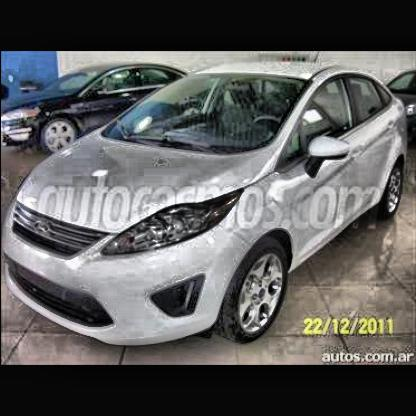Ford Fiesta Sedan 2012: (2, 52, 409, 346)
